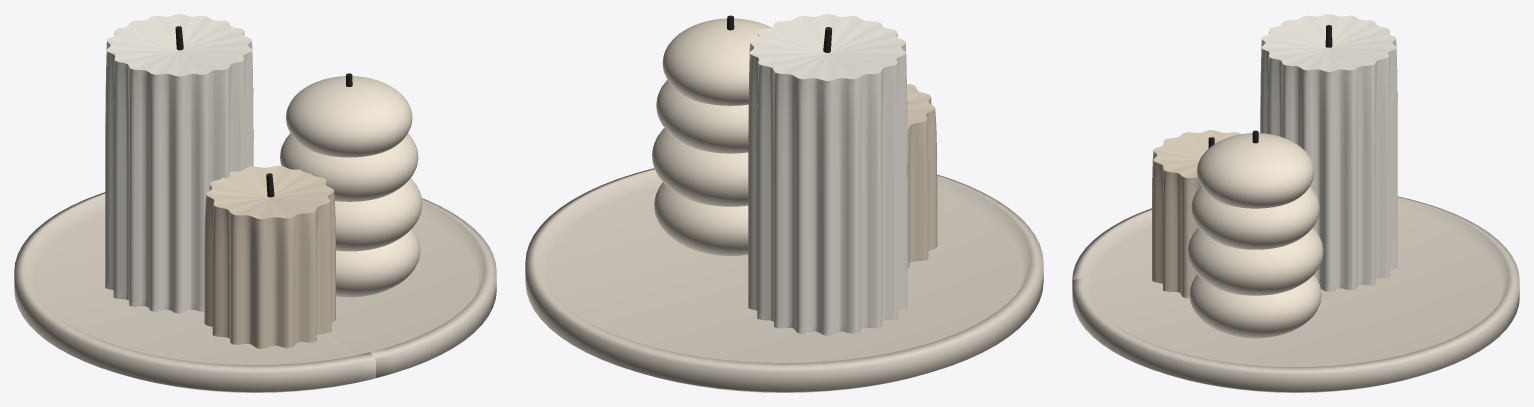
File: soy_wax_candles.glb
3 renders of one model, left to right at view 1: azimuth 30°, elevation 25°; view 2: azimuth 150°, elevation 25°; view 3: azimuth 270°, elevation 25°, orthographic. The views are drawn at different scales.
Size of the model in its own units: 2.44 by 1.51 by 2.44.
